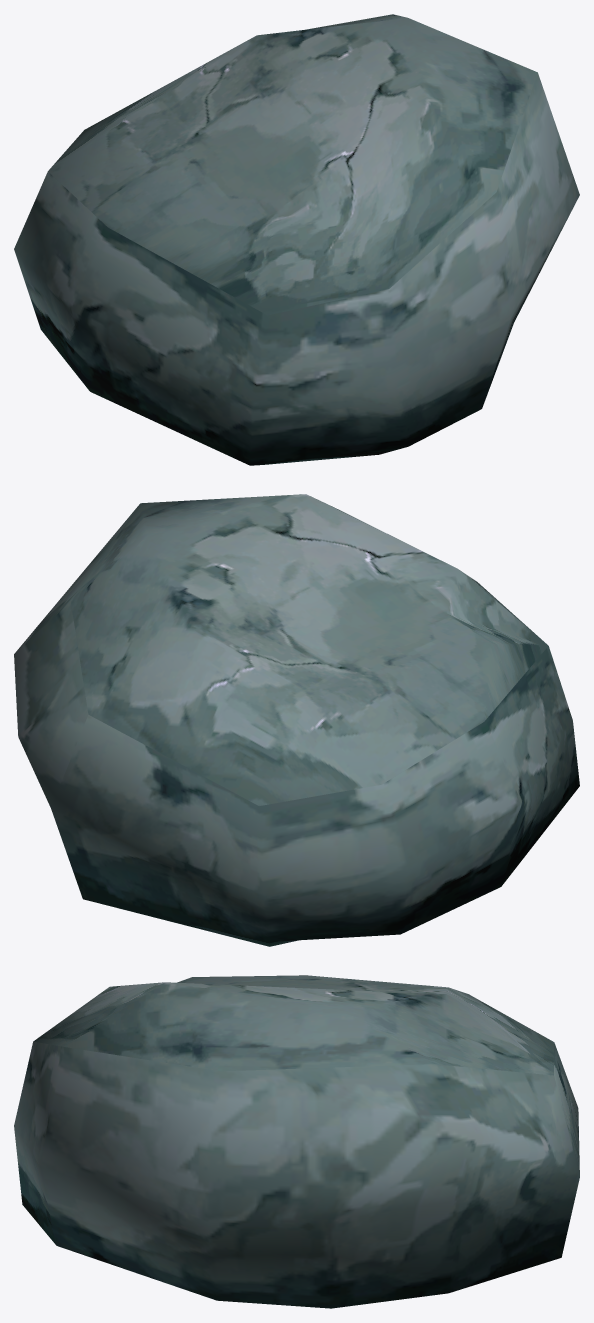
File: dro_junglerock1.glb
3 views of the same model, one above another, from view 1: azimuth 30°, elevation 25°; view 2: azimuth 150°, elevation 25°; view 3: azimuth 270°, elevation 25° (orthographic).
Visible parts, largest first — view 1: dro_junglerock1; view 2: dro_junglerock1; view 3: dro_junglerock1.
Part boxes in pixels (x1=…): dro_junglerock1: x1=14, y1=14, x2=579, y2=465; dro_junglerock1: x1=14, y1=494, x2=579, y2=946; dro_junglerock1: x1=14, y1=975, x2=579, y2=1308.
Size of the model in its own units: 0.3171 by 0.2122 by 0.3352.
Materials: 1 (1 with a texture image).
